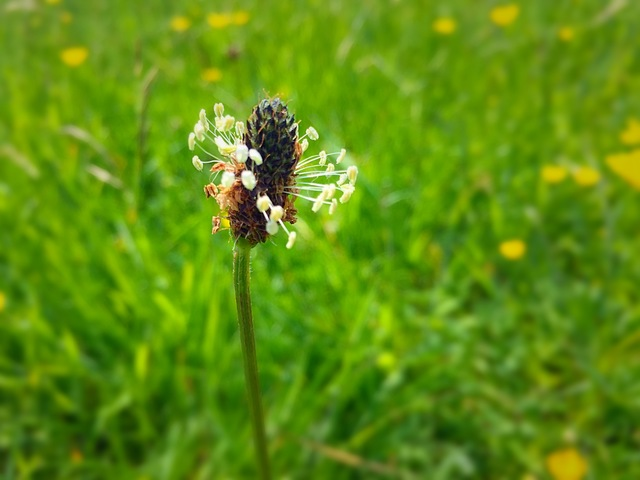buckhorn plantain: (189, 87, 365, 461)
